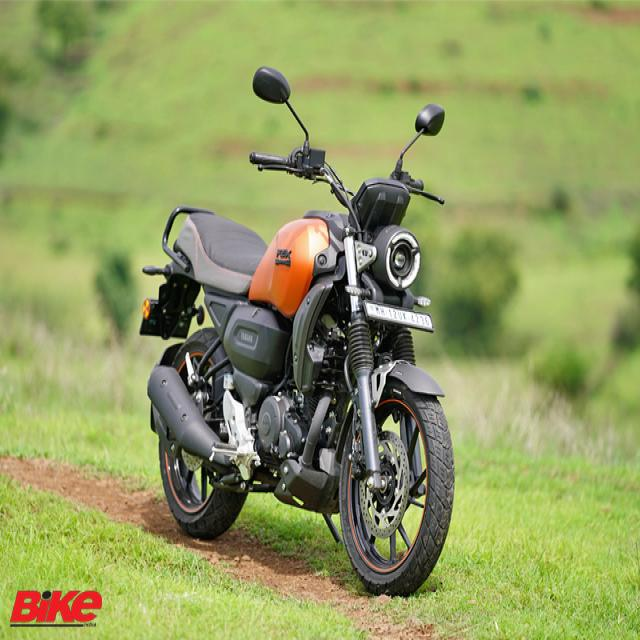bike: (139, 65, 455, 601)
